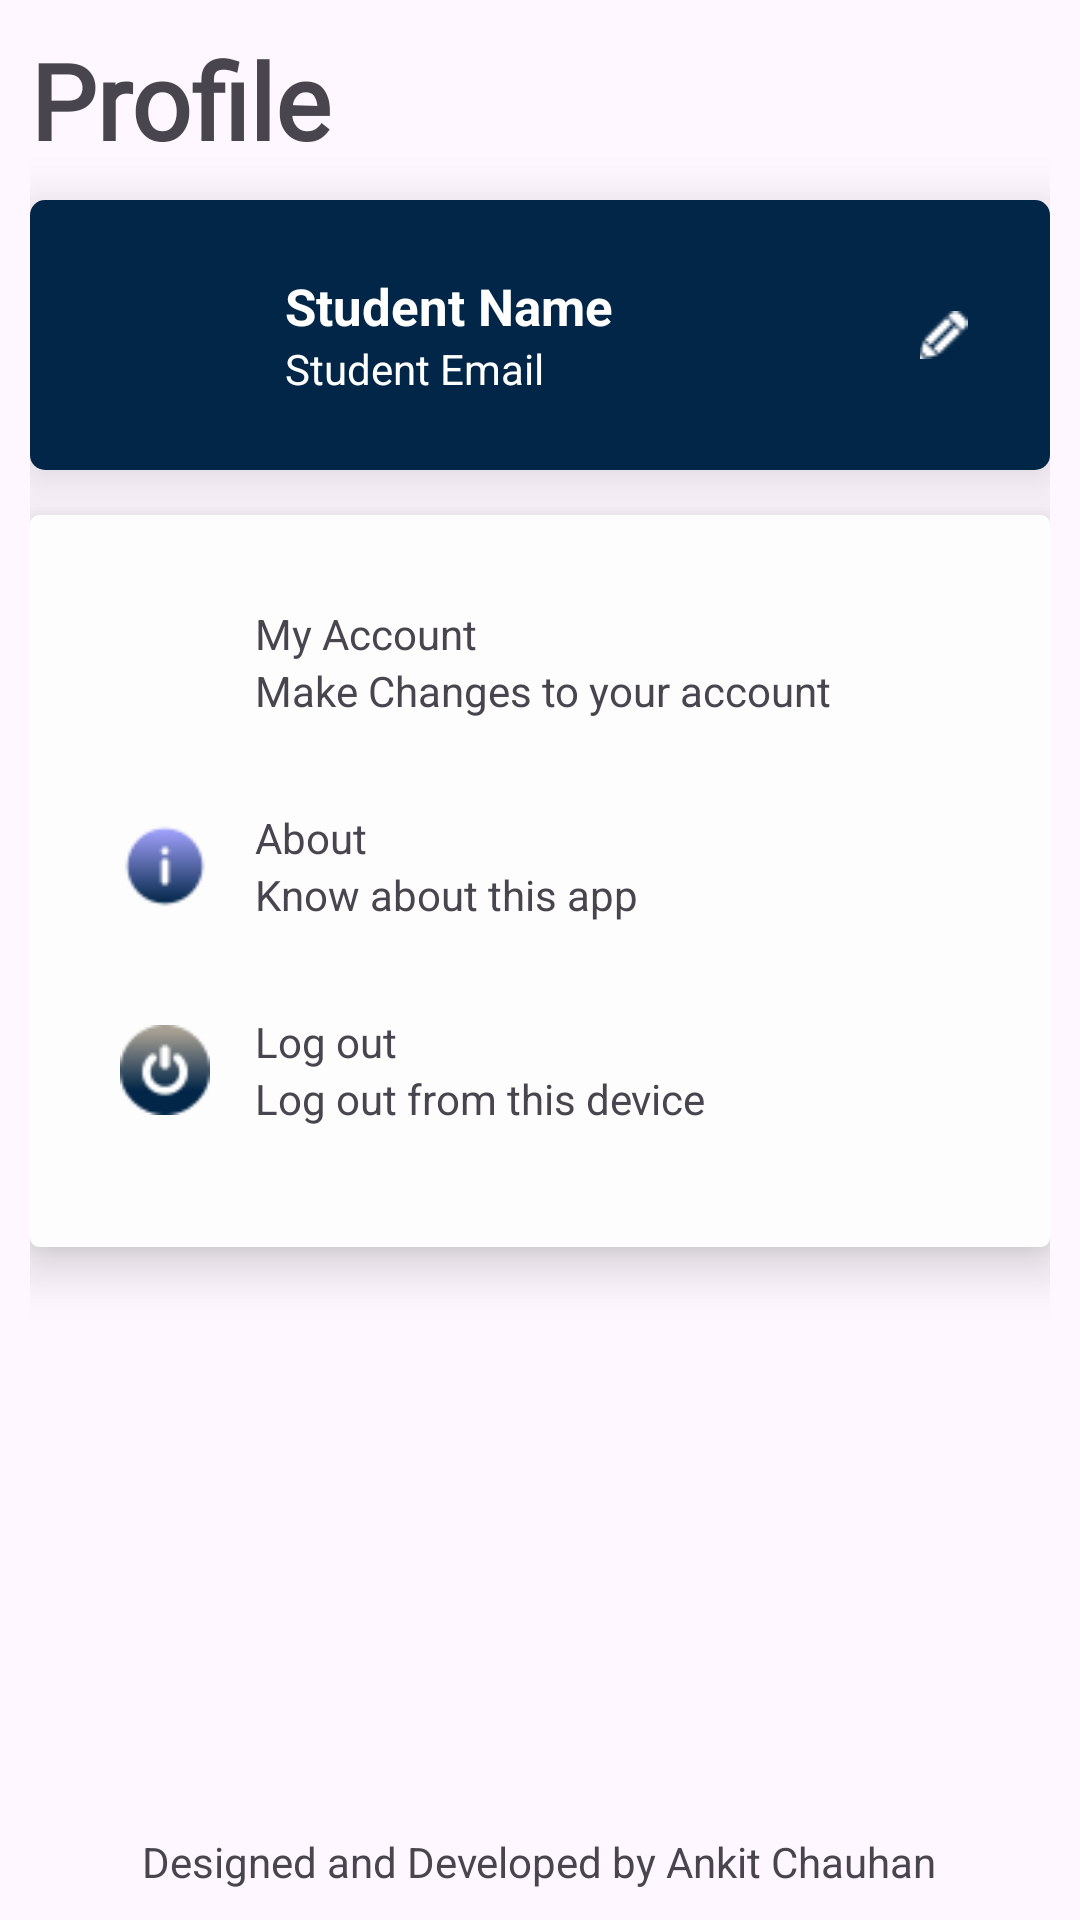

Where to tap for icons on this 1080px x 1920px app screen, as (x,y):
edit: (944,335)
